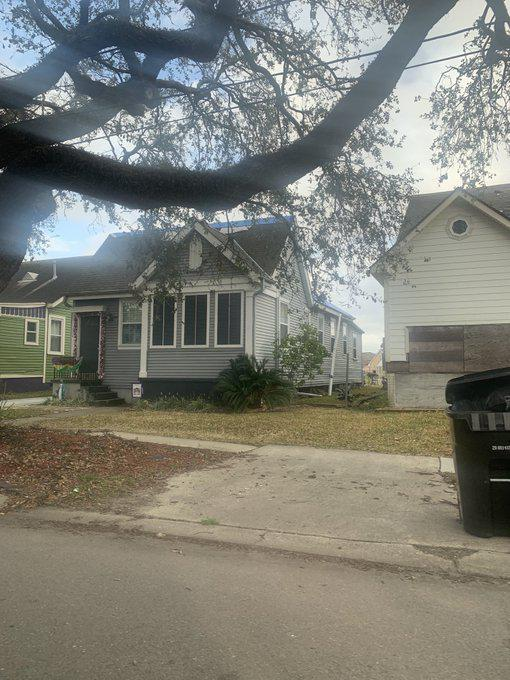minor: (44, 218, 383, 398)
